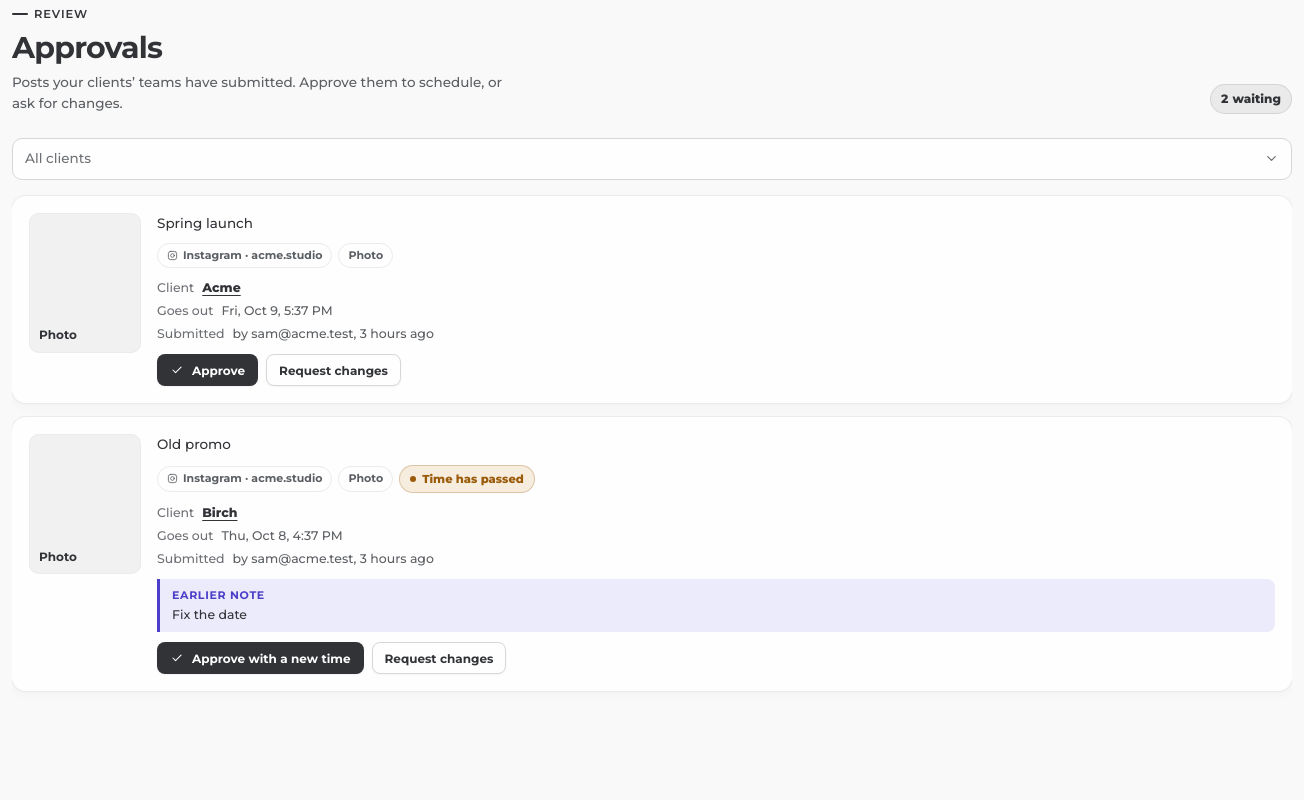
Scenario: Approvals queue › filters by client
This screenshot has width=1304, height=800.
Check: the text "Spring launch" is shown, box [157,214,253,230]
Click the dropdown named "Filter by client": x=58, y=158 [12,138,1292,180]
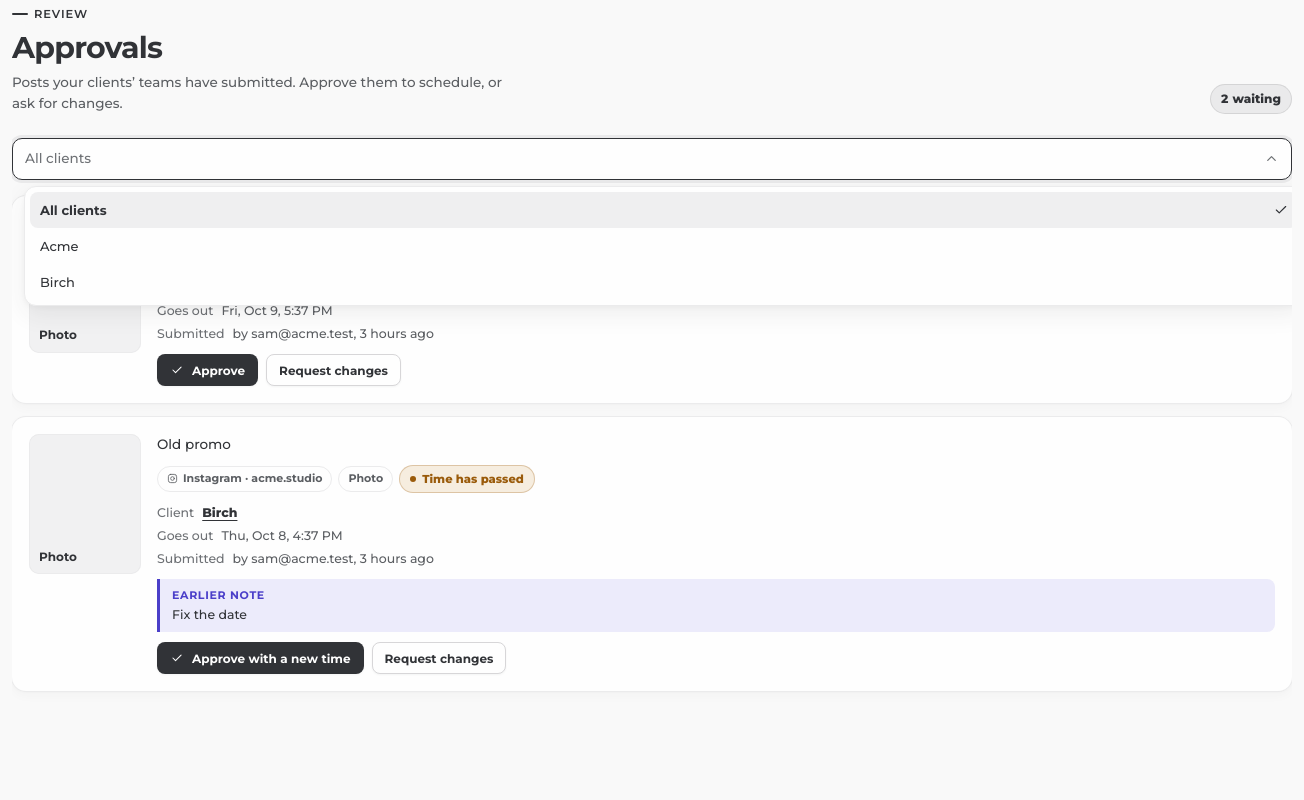
Click the option "Birch": x=57, y=282 [40,274,75,290]
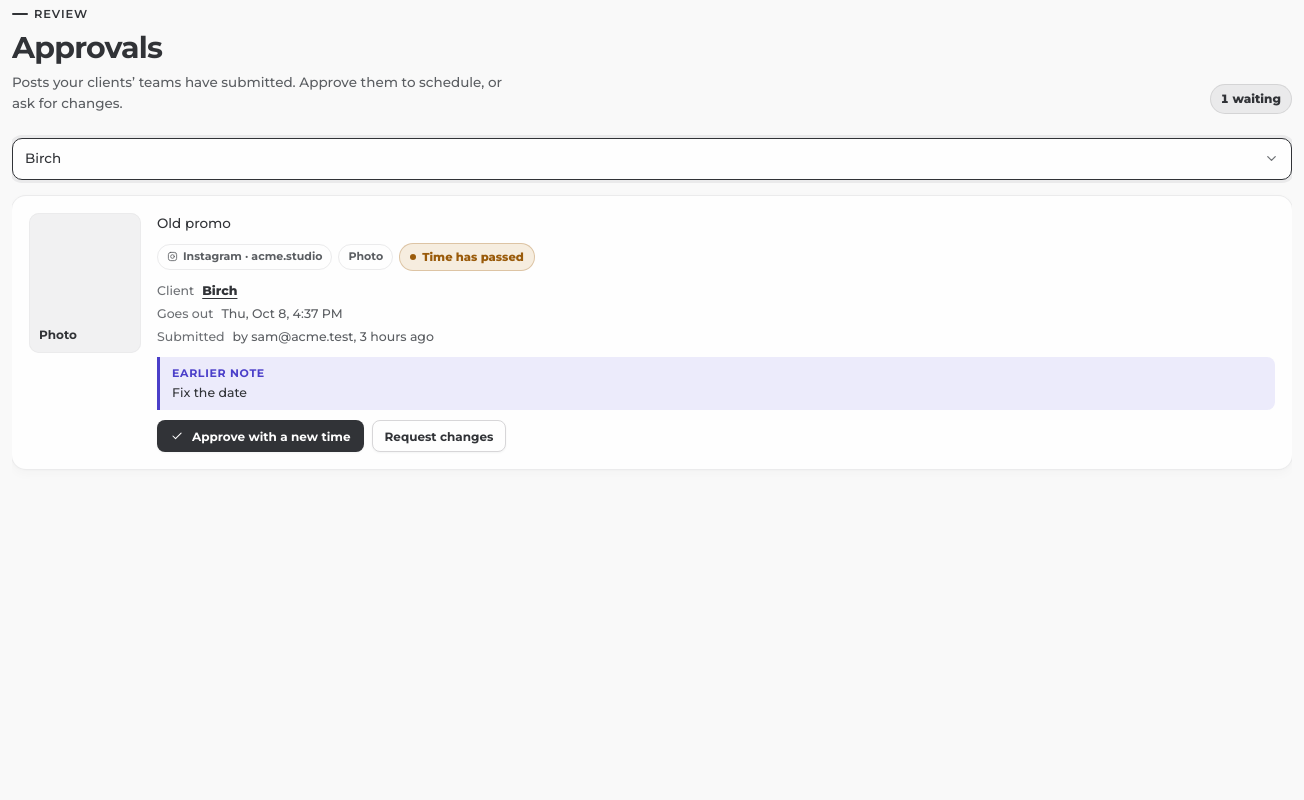
Check: the text "Old promo" is shown, box [157,214,231,230]
Check: the text "Spring launch" is gone
